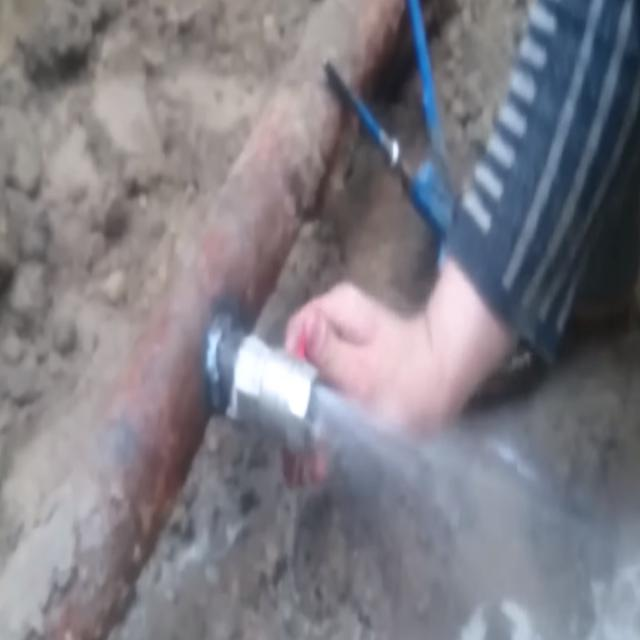leak: (306, 383, 640, 640)
